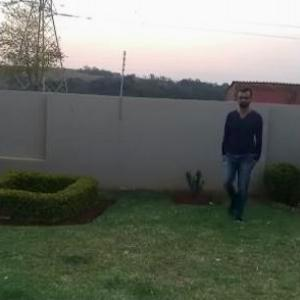follow: (212, 93, 261, 204)
